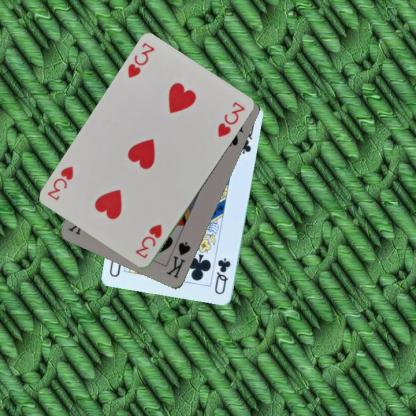3h: (125, 40, 156, 80), (132, 222, 164, 260)
Ks: (164, 239, 192, 280)
Qc: (212, 256, 232, 296)
